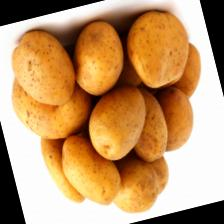potato: (3, 20, 81, 114), (116, 2, 197, 92), (78, 80, 156, 165), (53, 124, 125, 214), (60, 14, 132, 100), (138, 79, 201, 156), (117, 82, 174, 165), (102, 152, 164, 218)
